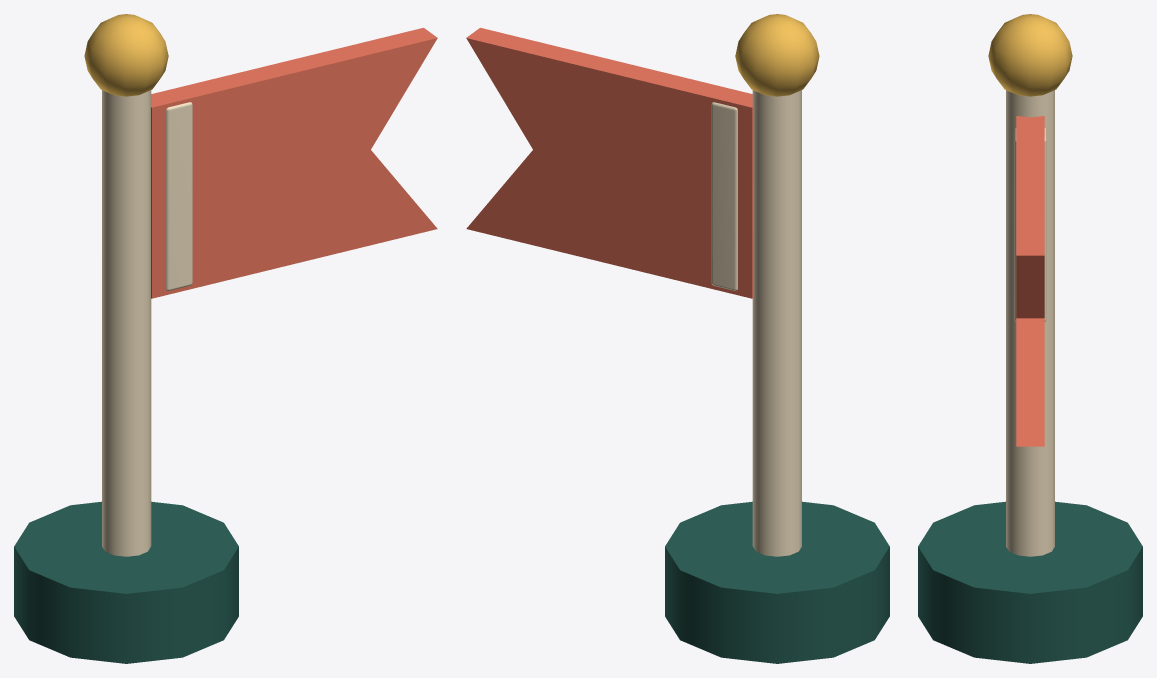
Rendered from athlete_pennant.glb.
3 views of the same model, side by side, from view 1: azimuth 30°, elevation 25°; view 2: azimuth 150°, elevation 25°; view 3: azimuth 270°, elevation 25° (orthographic).
Visible parts, largest first — view 1: athlete_pennant__coral, athlete_pennant__ink, athlete_pennant__cream, athlete_pennant__gold; view 2: athlete_pennant__coral, athlete_pennant__ink, athlete_pennant__cream, athlete_pennant__gold; view 3: athlete_pennant__ink, athlete_pennant__cream, athlete_pennant__coral, athlete_pennant__gold.
Boxes of the visible parts, left/top/right/bottom form: athlete_pennant__coral: left=151, top=27, right=437, bottom=298; athlete_pennant__ink: left=14, top=501, right=238, bottom=663; athlete_pennant__cream: left=102, top=90, right=192, bottom=556; athlete_pennant__gold: left=84, top=14, right=168, bottom=96; athlete_pennant__coral: left=466, top=27, right=752, bottom=298; athlete_pennant__ink: left=665, top=501, right=889, bottom=663; athlete_pennant__cream: left=711, top=90, right=801, bottom=556; athlete_pennant__gold: left=735, top=14, right=819, bottom=96; athlete_pennant__ink: left=918, top=501, right=1142, bottom=663; athlete_pennant__cream: left=1006, top=90, right=1054, bottom=556; athlete_pennant__coral: left=1016, top=116, right=1044, bottom=446; athlete_pennant__gold: left=988, top=14, right=1072, bottom=96.
Size of the model in its own units: 0.66 by 0.94 by 0.32.
